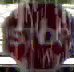Stop: (0, 2, 73, 71)
